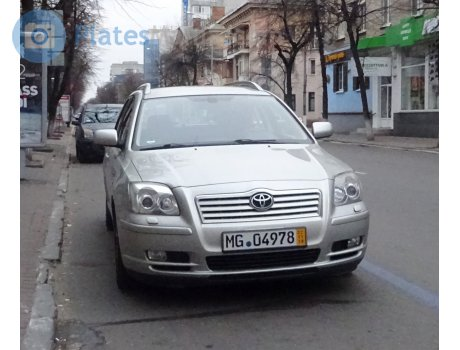License Plates: (223, 232, 295, 245)
